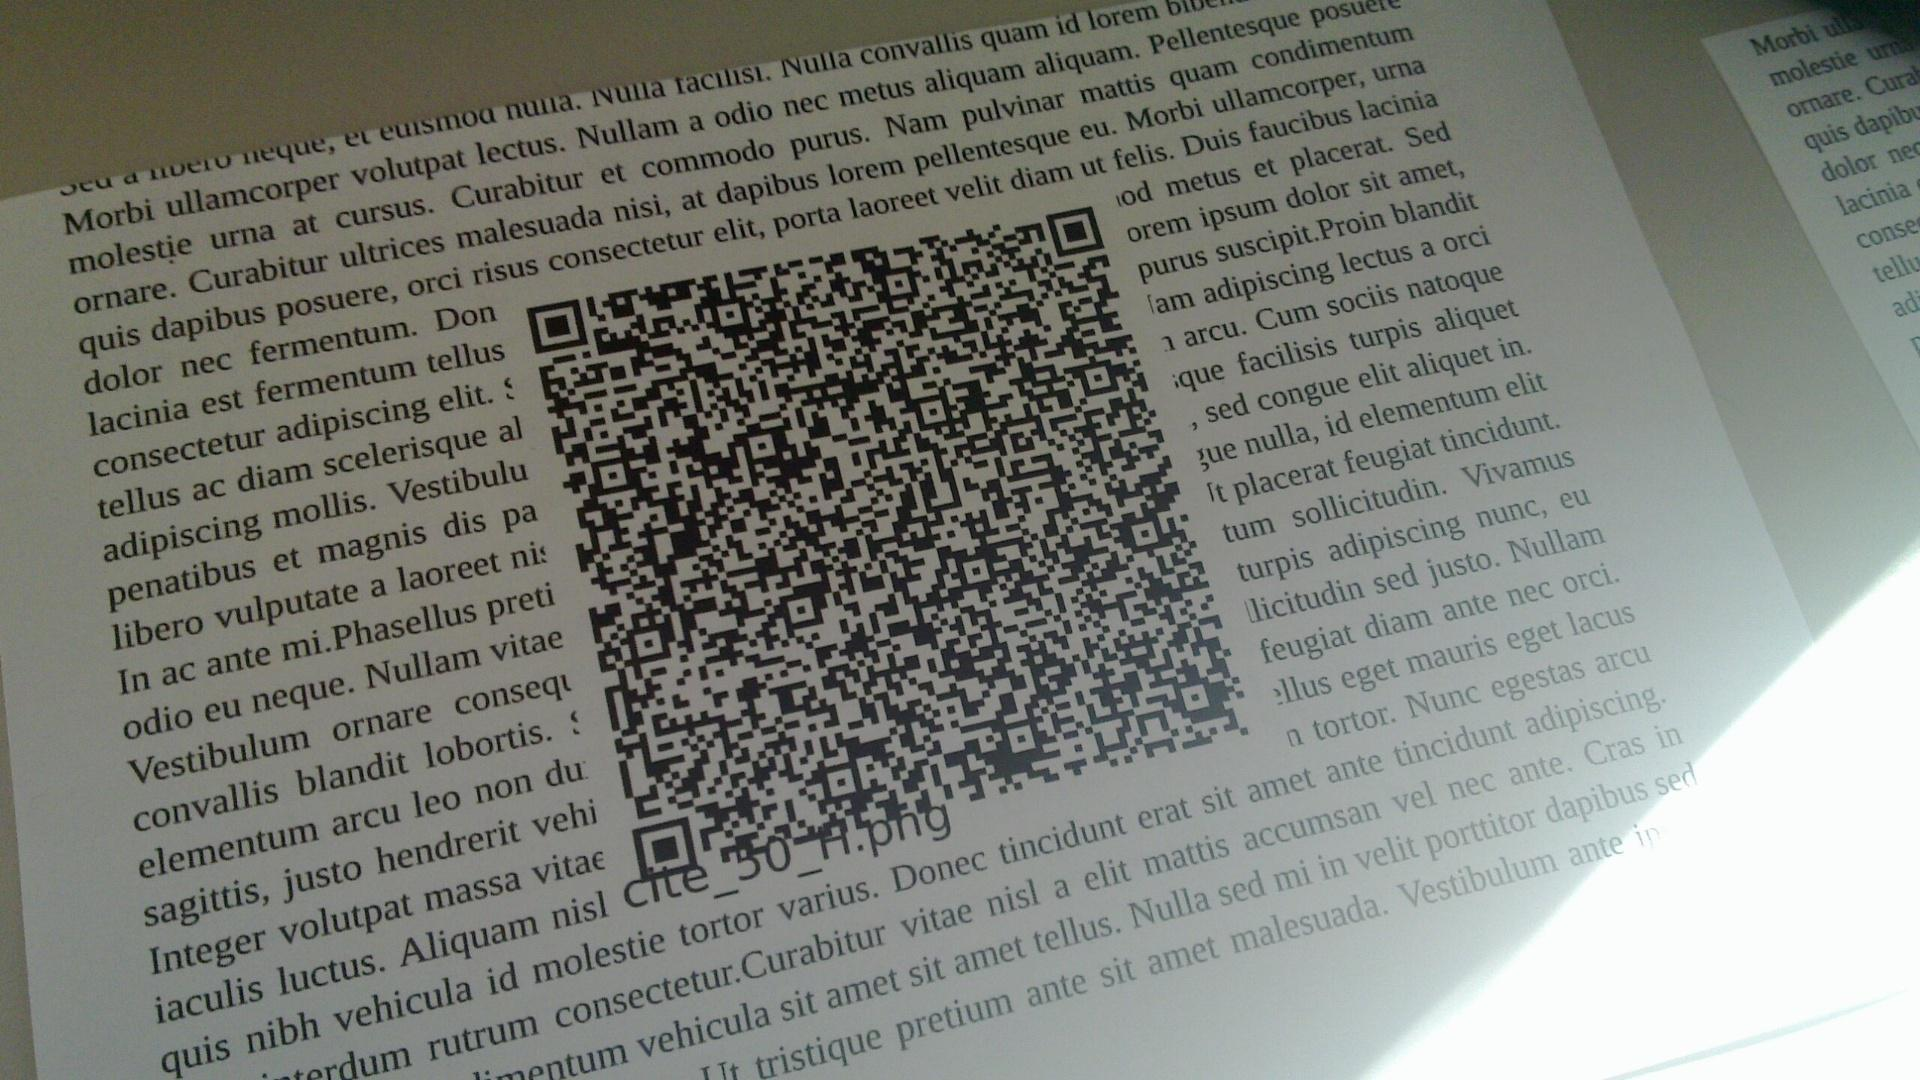Finder pattern: (625, 816, 703, 886), (518, 294, 591, 360), (1036, 199, 1106, 257)
